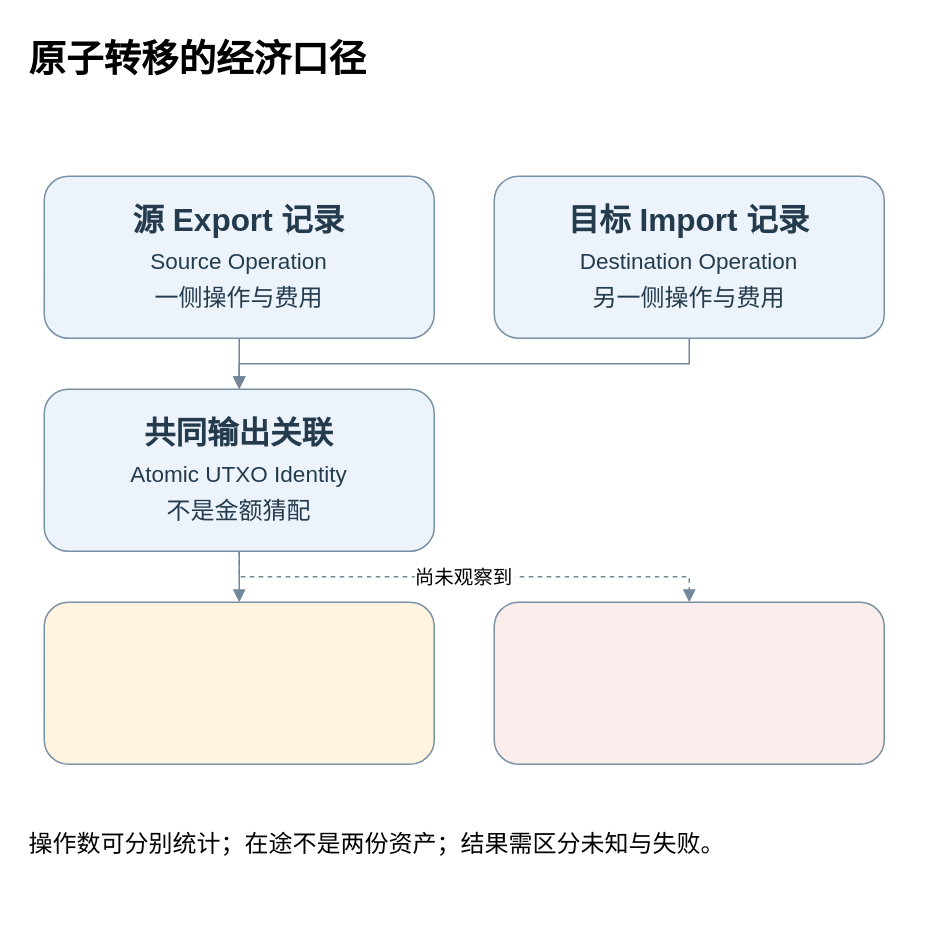
Image size: 927x950. Some labels were removed from this diagram. Here are the shapes that lost their labels. From the top down, the centre of each, then its label:
At [238,682]: "经济移动视图 Economic Movement 配对后避免双算".
At [688,682]: "未匹配集合 Unmatched Outputs 窗口与覆盖缺口".
